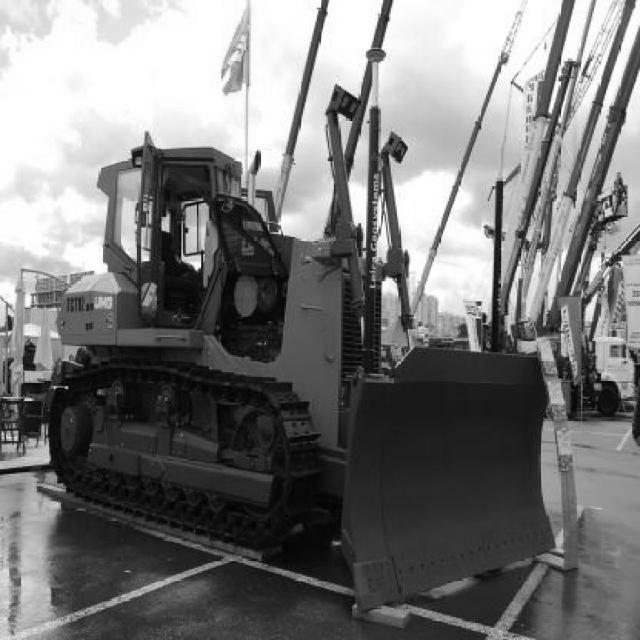Construction Equipment: (48, 88, 555, 616)
